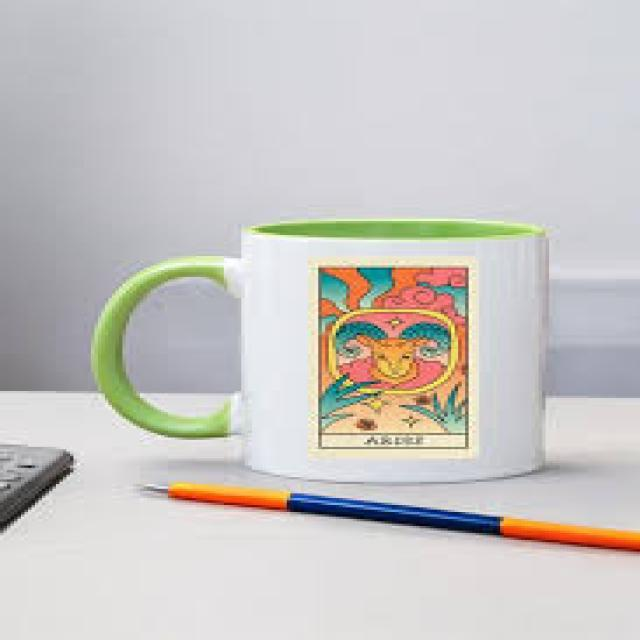taza: (92, 220, 550, 483)
